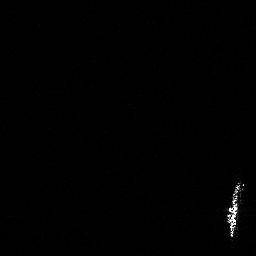ship: (222, 176, 248, 240)
